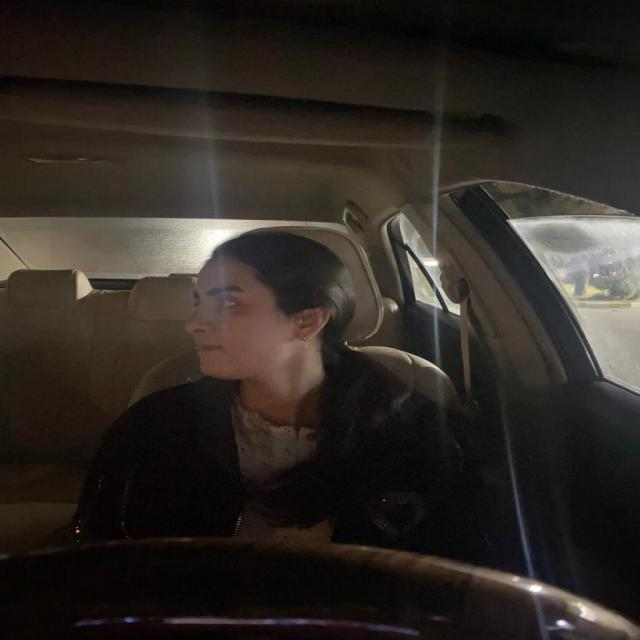LeftRight: (175, 225, 360, 394)
